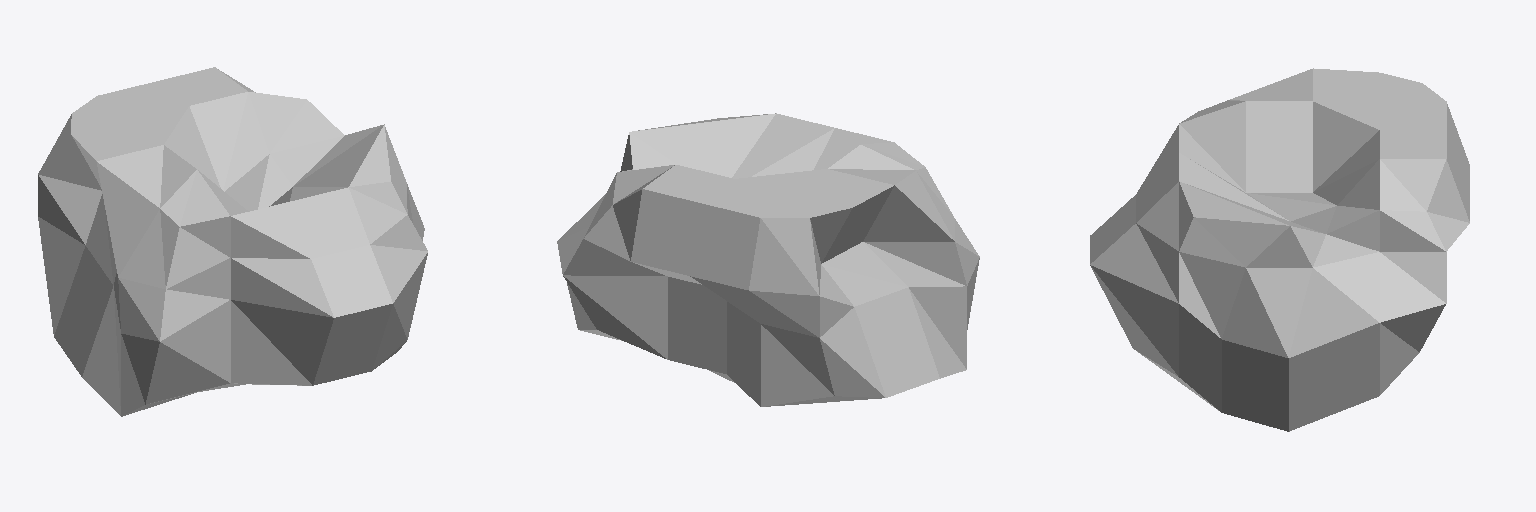
The model's file is round_rock.obj.
3 renders of one model, left to right at view 1: azimuth 30°, elevation 25°; view 2: azimuth 150°, elevation 25°; view 3: azimuth 270°, elevation 25°, orthographic.
Visible parts, largest first — view 1: Cube; view 2: Cube; view 3: Cube.
Part boxes in pixels (bbox=[...]): Cube: bbox=[38, 67, 427, 416]; Cube: bbox=[557, 113, 979, 406]; Cube: bbox=[1090, 68, 1469, 431].
Size of the model in its own units: 8.1 by 5.26 by 7.7.